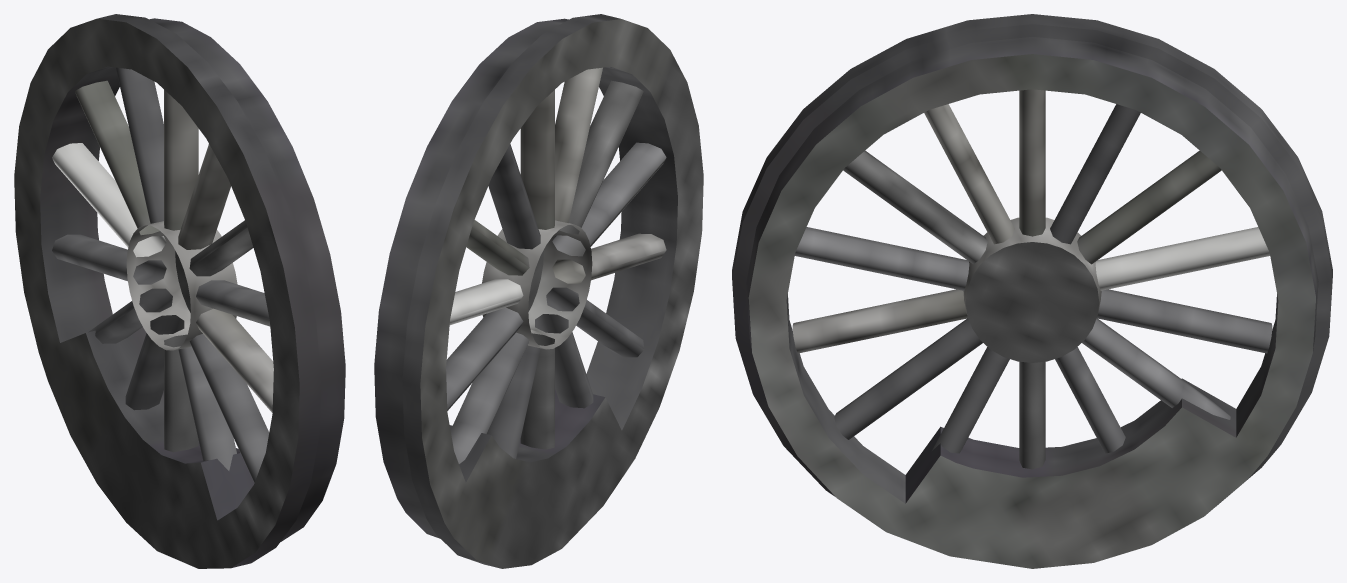
File: RuedaIzq2.obj
The picture shows the model from 3 angles, left to right: view 1: azimuth 30°, elevation 25°; view 2: azimuth 150°, elevation 25°; view 3: azimuth 270°, elevation 25°; orthographic projection. The views are drawn at different scales.
Parts seen in each view (by area): view 1: RuedaIzq2; view 2: RuedaIzq2; view 3: RuedaIzq2.
Part boxes in pixels (x1=…): RuedaIzq2: x1=14, y1=14, x2=345, y2=568; RuedaIzq2: x1=374, y1=14, x2=703, y2=568; RuedaIzq2: x1=732, y1=14, x2=1332, y2=568.
Size of the model in its own units: 0.0446 by 0.3867 by 0.3902.
Materials: 1 (1 with a texture image).
